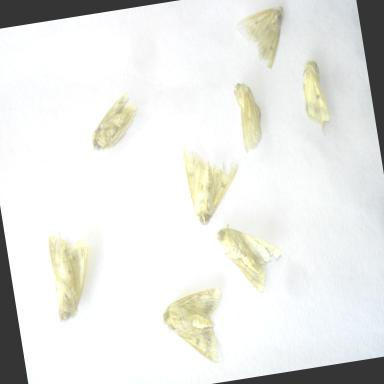abw: (155, 280, 236, 376), (177, 132, 250, 230), (213, 216, 290, 302), (39, 226, 101, 326), (231, 0, 296, 76), (82, 87, 148, 157), (291, 52, 337, 140), (228, 73, 270, 159)
